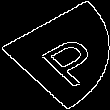P_NW: (13, 24, 97, 86)
